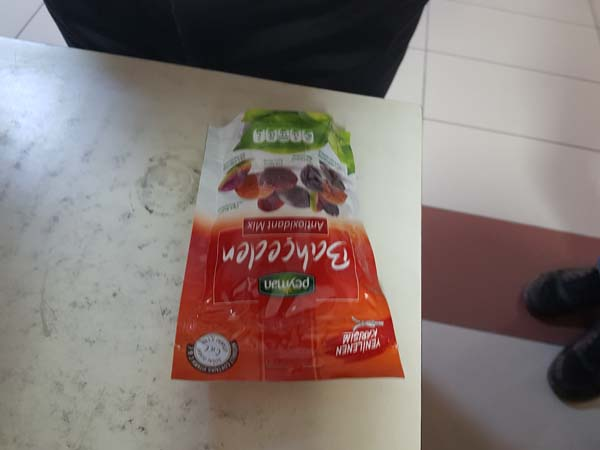bahcedenantioxidan: (169, 107, 408, 394)
